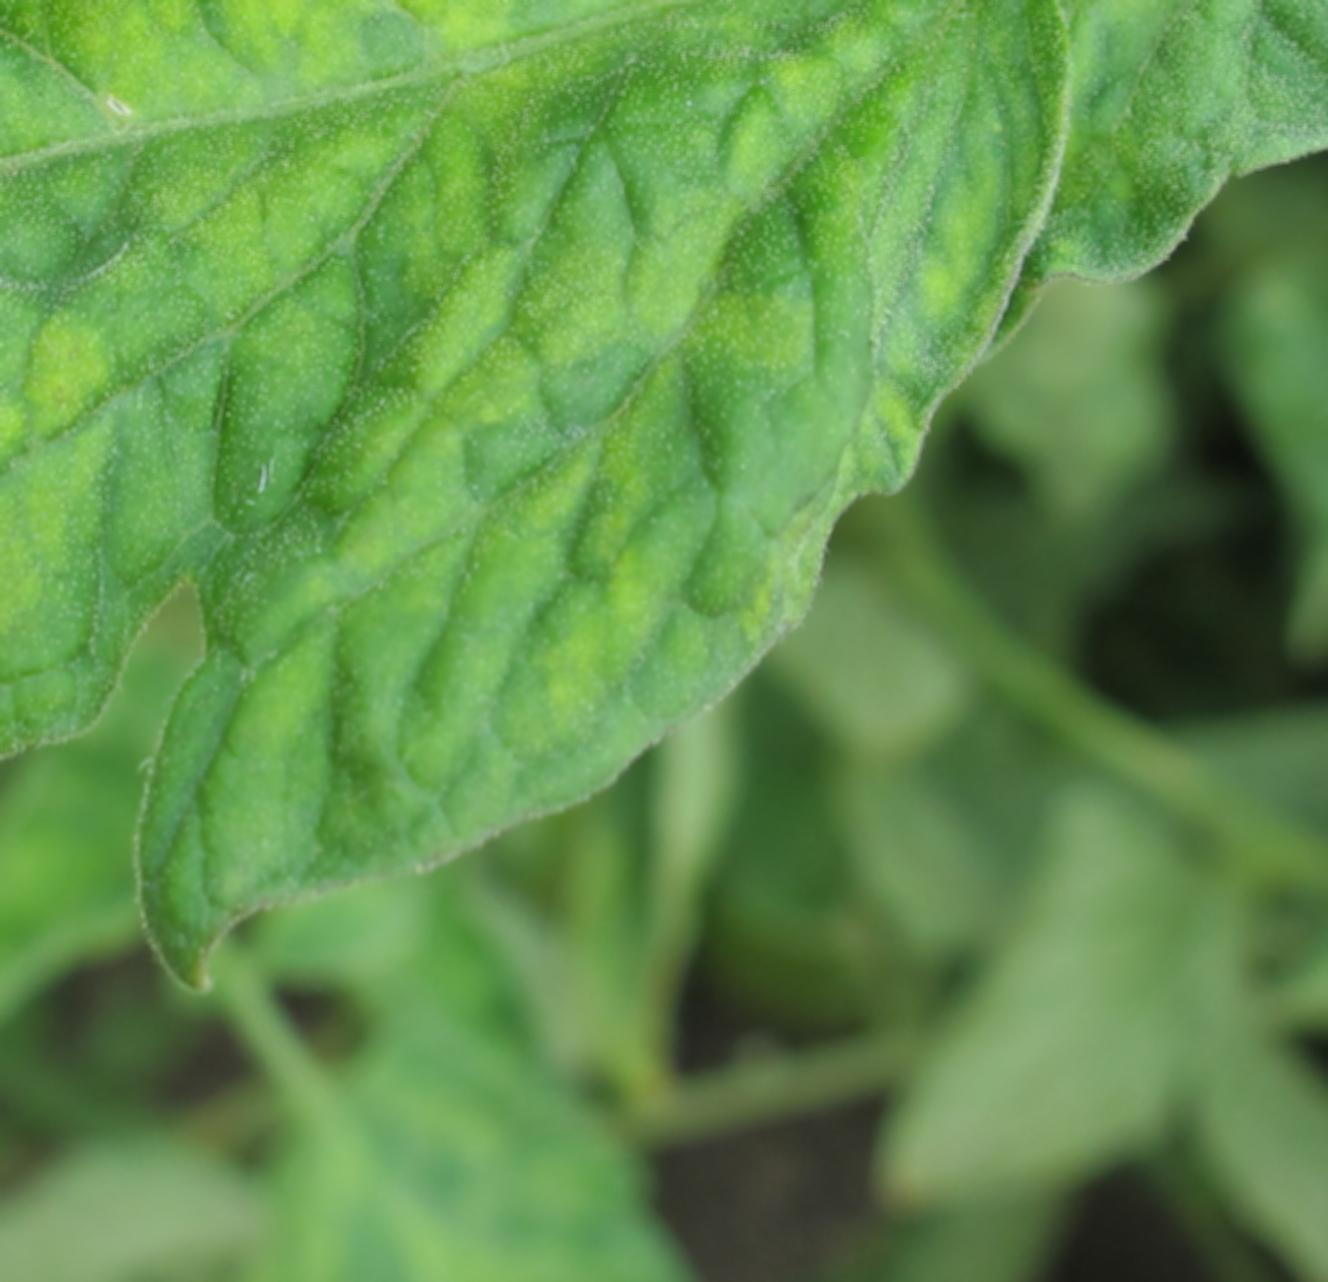Tomato leaf mosaic virus: (0, 0, 1328, 1073)
